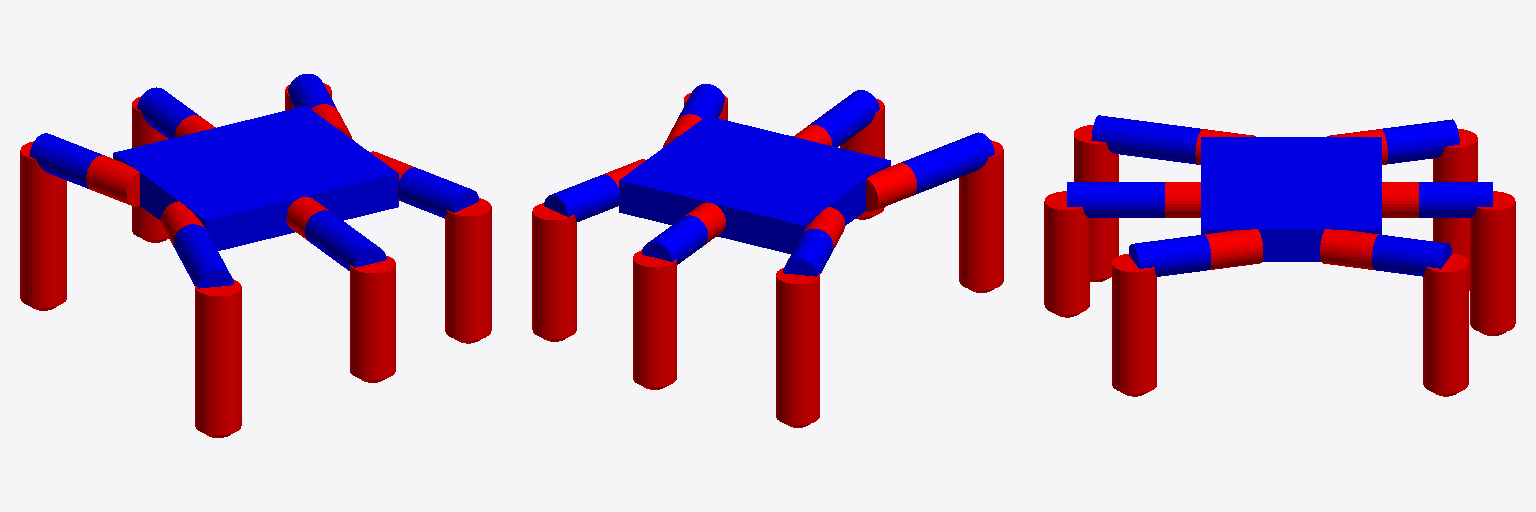
--- Render facts (derived) ---
3 views of the same robot in one strip: view 1: azimuth 30°, elevation 25°; view 2: azimuth 150°, elevation 25°; view 3: azimuth 270°, elevation 25° (orthographic).
Robot: pexod — 19 links, 18 joints (18 revolute); root link base_link; default pose: every joint at zero.
Links seen in each view (by area): view 1: base_link, leg_5_3, leg_0_3, leg_3_3, leg_4_3, leg_4_2, leg_3_2, leg_5_2, leg_0_2, leg_0_1, leg_1_3, leg_1_2 (+3 smaller); view 2: base_link, leg_0_3, leg_2_3, leg_5_3, leg_1_3, leg_5_2, leg_2_2, leg_4_2, leg_1_2, leg_5_1, leg_0_2, leg_4_3 (+3 smaller); view 3: base_link, leg_1_3, leg_2_3, leg_3_3, leg_4_3, leg_5_3, leg_5_2, leg_4_2, leg_0_3, leg_3_2, leg_2_2, leg_1_2 (+5 smaller).
Link boxes in pixels (x1,y1,x2,y2): base_link: [113, 106, 398, 250]; leg_5_3: [195, 279, 241, 437]; leg_0_3: [20, 141, 66, 310]; leg_3_3: [445, 198, 491, 343]; leg_4_3: [350, 256, 395, 382]; leg_4_2: [305, 210, 386, 270]; leg_3_2: [397, 167, 478, 218]; leg_5_2: [174, 224, 233, 288]; leg_0_2: [29, 133, 104, 188]; leg_0_1: [86, 155, 139, 206]; leg_1_3: [132, 97, 168, 242]; leg_1_2: [137, 87, 200, 138]; base_link: [619, 116, 890, 253]; leg_0_3: [776, 268, 819, 427]; leg_2_3: [532, 203, 576, 341]; leg_5_3: [959, 140, 1003, 292]; leg_1_3: [633, 250, 676, 389]; leg_5_2: [901, 132, 994, 195]; leg_2_2: [544, 174, 619, 221]; leg_4_2: [808, 90, 879, 146]; leg_1_2: [642, 215, 707, 264]; leg_5_1: [866, 163, 916, 211]; leg_0_2: [783, 229, 833, 276]; leg_4_3: [840, 99, 884, 219]; base_link: [1201, 137, 1381, 261]; leg_1_3: [1470, 191, 1515, 335]; leg_2_3: [1423, 253, 1468, 396]; leg_3_3: [1112, 254, 1156, 396]; leg_4_3: [1044, 191, 1089, 317]; leg_5_3: [1074, 125, 1118, 281]; leg_5_2: [1091, 115, 1201, 164]; leg_4_2: [1067, 182, 1164, 217]; leg_0_3: [1433, 129, 1477, 290]; leg_3_2: [1129, 234, 1210, 276]; leg_2_2: [1372, 234, 1451, 276]; leg_1_2: [1419, 182, 1492, 217].
Bounding box of the posed robot: 0.3853 × 0.5195 × 0.2087 m (x, y, z).
Geometry: primitives only (box / cylinder / sphere), no mesh files.

robot.urdf — pexod:
<?xml version="1.0" ?>
<!-- =================================================================================== -->
<!-- |    This document was autogenerated by xacro from pexod.xacro                    | -->
<!-- |    EDITING THIS FILE BY HAND IS NOT RECOMMENDED                                 | -->
<!-- =================================================================================== -->
<robot name="pexod" xmlns:xacro="http://www.ros.org/wiki/xacro">
  <!-- <xacro:include filename="$(find pexod_description)/urdf/pexod_control.xacro" /> -->
  <!-- MATERIALS -->
  <material name="Blue">
    <color rgba="0 0 1 1"/>
  </material>
  <material name="Red">
    <color rgba="1 0 0 1"/>
  </material>
  <material name="Green">
    <color rgba="0 1 0 1"/>
  </material>
  <material name="Yellow">
    <color rgba="1 1 0 1"/>
  </material>
  <material name="LightGrey">
    <color rgba="0.6 0.6 0.6 1.0"/>
  </material>
  <!-- END OF MATERIALS -->
  <!-- XACRO MACROS FOR VISUALS AND COLLISIONS -->
  <!-- END OF XACRO MACROS -->
  <!-- TORSO -->
  <link name="base_link">
    <visual>
      <origin rpy="0 0 0" xyz="0 0 0"/>
      <geometry>
        <box size="0.24 0.2 0.04"/>
      </geometry>
      <material name="Blue"/>
    </visual>
    <collision>
      <origin rpy="0 0 0" xyz="0 0 0"/>
      <geometry>
        <box size="0.24 0.2 0.04"/>
      </geometry>
    </collision>
    <inertial>
      <!-- CENTER OF MASS -->
      <origin rpy="0 0 0" xyz="0 0 0"/>
      <mass value="1.031"/>
      <!-- box inertia: 1/12*m(y^2+z^2), ... -->
      <inertia ixx="0.00357413333333" ixy="0" ixz="0" iyy="0.00508626666667" iyz="0" izz="0.00838546666667"/>
    </inertial>
  </link>
  <!-- XACRO MACRO FOR LEGS LINKS/JOINTS -->
  <!-- END OF LEG LINKS/JOINTS -->
  <joint name="body_leg_2" type="revolute">
    <parent link="base_link"/>
    <child link="leg_2_1"/>
    <limit effort="30.0" lower="-1.57079632679" upper="1.57079632679" velocity="7.0"/>
    <origin rpy="0 0 -0.3" xyz="0.11 0.04 0"/>
    <!-- <xacro:if value="${index == 5 or index == 4 or index == 3}">
                <axis xyz="0 0 1"/>
            </xacro:if>
            <xacro:if value="${index == 2 or index == 1 or index == 0}"> -->
    <axis xyz="0 0 1"/>
    <!-- </xacro:if> -->
    <dynamics damping="0.0"/>
  </joint>
  <link name="leg_2_1">
    <visual>
      <origin rpy="1.57079632679 0 0" xyz="0.01 0.03 0"/>
      <geometry>
        <cylinder length="0.06" radius="0.02"/>
      </geometry>
      <material name="Red"/>
    </visual>
    <collision>
      <origin rpy="1.57079632679 0 0" xyz="0.01 0.03 0"/>
      <geometry>
        <box size="0.02 0.02 0.06"/>
      </geometry>
    </collision>
    <inertial>
      <!-- CENTER OF MASS -->
      <origin rpy="1.57079632679 0 0" xyz="0.01 0.03 0"/>
      <mass value="0.02"/>
      <!-- box inertia: 1/12*m(y^2+z^2), ... -->
      <inertia ixx="6.66666666667e-06" ixy="0" ixz="0" iyy="6.66666666667e-06" iyz="0" izz="1.33333333333e-06"/>
    </inertial>
  </link>
  <joint name="leg_2_1_2" type="revolute">
    <parent link="leg_2_1"/>
    <child link="leg_2_2"/>
    <limit effort="30.0" lower="-0.78539816339" upper="0.78539816339" velocity="7.0"/>
    <origin rpy="0 0 0" xyz="0 0.06 0"/>
    <axis xyz="1 0 0"/>
    <dynamics damping="0.0"/>
  </joint>
  <link name="leg_2_2">
    <visual>
      <origin rpy="1.57079632679 0 0" xyz="0.01 0.0400682531084 0"/>
      <geometry>
        <cylinder length="0.0801365062169" radius="0.02"/>
      </geometry>
      <material name="Blue"/>
    </visual>
    <collision>
      <origin rpy="1.57079632679 0 0" xyz="0.01 0.0400682531084 0"/>
      <geometry>
        <box size="0.02 0.02 0.0801365062169"/>
      </geometry>
    </collision>
    <inertial>
      <!-- CENTER OF MASS -->
      <origin rpy="1.57079632679 0 0" xyz="0.01 0.0400682531084 0"/>
      <mass value="0.184"/>
      <!-- box inertia: 1/12*m(y^2+z^2), ... -->
      <inertia ixx="0.000104601847639" ixy="0" ixz="0" iyy="0.000104601847639" iyz="0" izz="1.22666666667e-05"/>
    </inertial>
  </link>
  <joint name="leg_2_2_3" type="revolute">
    <parent link="leg_2_2"/>
    <child link="leg_2_3"/>
    <limit effort="30.0" lower="-0.78539816339" upper="0.78539816339" velocity="7.0"/>
    <origin rpy="-1.57079632679 0 0" xyz="0 0.0801365062169 0"/>
    <axis xyz="-1 0 0"/>
    <dynamics damping="0.0"/>
  </joint>
  <link name="leg_2_3">
    <visual>
      <origin rpy="1.57079632679 0 0" xyz="0.0125 0.074177664071 0"/>
      <geometry>
        <cylinder length="0.148355328142" radius="0.025"/>
      </geometry>
      <material name="Red"/>
    </visual>
    <visual>
      <origin rpy="1.57079632679 0 0" xyz="0.0125 0.135855328142 0"/>
      <geometry>
        <sphere radius="0.025"/>
      </geometry>
      <material name="Red"/>
    </visual>
    <collision>
      <origin rpy="1.57079632679 0 0" xyz="0.0125 0.074177664071 0"/>
      <geometry>
        <box size="0.025 0.025 0.148355328142"/>
      </geometry>
    </collision>
    <collision>
      <origin rpy="1.57079632679 0 0" xyz="0.0125 0.135855328142 0"/>
      <geometry>
        <sphere radius="0.025"/>
      </geometry>
      <material name="Red"/>
    </collision>
    <inertial>
      <!-- CENTER OF MASS -->
      <origin rpy="1.57079632679 0 0" xyz="0.0125 0.074177664071 0"/>
      <mass value="0.04"/>
      <!-- box inertia: 1/12*m(y^2+z^2), ... -->
      <inertia ixx="7.54476779604e-05" ixy="0" ixz="0" iyy="7.54476779604e-05" iyz="0" izz="4.16666666667e-06"/>
    </inertial>
  </link>
  <joint name="body_leg_3" type="revolute">
    <parent link="base_link"/>
    <child link="leg_3_1"/>
    <limit effort="30.0" lower="-1.57079632679" upper="1.57079632679" velocity="7.0"/>
    <origin rpy="0 0 0.3" xyz="0.11 -0.04 0"/>
    <!-- <xacro:if value="${index == 5 or index == 4 or index == 3}">
                <axis xyz="0 0 1"/>
            </xacro:if>
            <xacro:if value="${index == 2 or index == 1 or index == 0}"> -->
    <axis xyz="0 0 1"/>
    <!-- </xacro:if> -->
    <dynamics damping="0.0"/>
  </joint>
  <link name="leg_3_1">
    <visual>
      <origin rpy="1.57079632679 0 0" xyz="0.01 -0.03 0"/>
      <geometry>
        <cylinder length="0.06" radius="0.02"/>
      </geometry>
      <material name="Red"/>
    </visual>
    <collision>
      <origin rpy="1.57079632679 0 0" xyz="0.01 -0.03 0"/>
      <geometry>
        <box size="0.02 0.02 0.06"/>
      </geometry>
    </collision>
    <inertial>
      <!-- CENTER OF MASS -->
      <origin rpy="1.57079632679 0 0" xyz="0.01 -0.03 0"/>
      <mass value="0.02"/>
      <!-- box inertia: 1/12*m(y^2+z^2), ... -->
      <inertia ixx="6.66666666667e-06" ixy="0" ixz="0" iyy="6.66666666667e-06" iyz="0" izz="1.33333333333e-06"/>
    </inertial>
  </link>
  <joint name="leg_3_1_2" type="revolute">
    <parent link="leg_3_1"/>
    <child link="leg_3_2"/>
    <limit effort="30.0" lower="-0.78539816339" upper="0.78539816339" velocity="7.0"/>
    <origin rpy="0 0 0" xyz="0 -0.06 0"/>
    <axis xyz="-1 0 0"/>
    <dynamics damping="0.0"/>
  </joint>
  <link name="leg_3_2">
    <visual>
      <origin rpy="1.57079632679 0 0" xyz="0.01 -0.04168758227 0"/>
      <geometry>
        <cylinder length="0.0833751645399" radius="0.02"/>
      </geometry>
      <material name="Blue"/>
    </visual>
    <collision>
      <origin rpy="1.57079632679 0 0" xyz="0.01 -0.04168758227 0"/>
      <geometry>
        <box size="0.02 0.02 0.0833751645399"/>
      </geometry>
    </collision>
    <inertial>
      <!-- CENTER OF MASS -->
      <origin rpy="1.57079632679 0 0" xyz="0.01 -0.04168758227 0"/>
      <mass value="0.184"/>
      <!-- box inertia: 1/12*m(y^2+z^2), ... -->
      <inertia ixx="0.000112721743618" ixy="0" ixz="0" iyy="0.000112721743618" iyz="0" izz="1.22666666667e-05"/>
    </inertial>
  </link>
  <joint name="leg_3_2_3" type="revolute">
    <parent link="leg_3_2"/>
    <child link="leg_3_3"/>
    <limit effort="30.0" lower="-0.78539816339" upper="0.78539816339" velocity="7.0"/>
    <origin rpy="1.57079632679 0 0" xyz="0 -0.0833751645399 0"/>
    <axis xyz="1 0 0"/>
    <dynamics damping="0.0"/>
  </joint>
  <link name="leg_3_3">
    <visual>
      <origin rpy="1.57079632679 0 0" xyz="0.0125 -0.0739847750105 0"/>
      <geometry>
        <cylinder length="0.147969550021" radius="0.025"/>
      </geometry>
      <material name="Red"/>
    </visual>
    <visual>
      <origin rpy="1.57079632679 0 0" xyz="0.0125 -0.135469550021 0"/>
      <geometry>
        <sphere radius="0.025"/>
      </geometry>
      <material name="Red"/>
    </visual>
    <collision>
      <origin rpy="1.57079632679 0 0" xyz="0.0125 -0.0739847750105 0"/>
      <geometry>
        <box size="0.025 0.025 0.147969550021"/>
      </geometry>
    </collision>
    <collision>
      <origin rpy="1.57079632679 0 0" xyz="0.0125 -0.135469550021 0"/>
      <geometry>
        <sphere radius="0.025"/>
      </geometry>
      <material name="Red"/>
    </collision>
    <inertial>
      <!-- CENTER OF MASS -->
      <origin rpy="1.57079632679 0 0" xyz="0.0125 -0.0739847750105 0"/>
      <mass value="0.04"/>
      <!-- box inertia: 1/12*m(y^2+z^2), ... -->
      <inertia ixx="7.50666257781e-05" ixy="0" ixz="0" iyy="7.50666257781e-05" iyz="0" izz="4.16666666667e-06"/>
    </inertial>
  </link>
  <joint name="body_leg_0" type="revolute">
    <parent link="base_link"/>
    <child link="leg_0_1"/>
    <limit effort="30.0" lower="-1.57079632679" upper="1.57079632679" velocity="7.0"/>
    <origin rpy="0 0 0.3" xyz="-0.13 0.04 0"/>
    <!-- <xacro:if value="${index == 5 or index == 4 or index == 3}">
                <axis xyz="0 0 1"/>
            </xacro:if>
            <xacro:if value="${index == 2 or index == 1 or index == 0}"> -->
    <axis xyz="0 0 1"/>
    <!-- </xacro:if> -->
    <dynamics damping="0.0"/>
  </joint>
  <link name="leg_0_1">
    <visual>
      <origin rpy="1.57079632679 0 0" xyz="0.01 0.03 0"/>
      <geometry>
        <cylinder length="0.06" radius="0.02"/>
      </geometry>
      <material name="Red"/>
    </visual>
    <collision>
      <origin rpy="1.57079632679 0 0" xyz="0.01 0.03 0"/>
      <geometry>
        <box size="0.02 0.02 0.06"/>
      </geometry>
    </collision>
    <inertial>
      <!-- CENTER OF MASS -->
      <origin rpy="1.57079632679 0 0" xyz="0.01 0.03 0"/>
      <mass value="0.02"/>
      <!-- box inertia: 1/12*m(y^2+z^2), ... -->
      <inertia ixx="6.66666666667e-06" ixy="0" ixz="0" iyy="6.66666666667e-06" iyz="0" izz="1.33333333333e-06"/>
    </inertial>
  </link>
  <joint name="leg_0_1_2" type="revolute">
    <parent link="leg_0_1"/>
    <child link="leg_0_2"/>
    <limit effort="30.0" lower="-0.78539816339" upper="0.78539816339" velocity="7.0"/>
    <origin rpy="0 0 0" xyz="0 0.06 0"/>
    <axis xyz="1 0 0"/>
    <dynamics damping="0.0"/>
  </joint>
  <link name="leg_0_2">
    <visual>
      <origin rpy="1.57079632679 0 0" xyz="0.01 0.0415265780655 0"/>
      <geometry>
        <cylinder length="0.083053156131" radius="0.02"/>
      </geometry>
      <material name="Blue"/>
    </visual>
    <collision>
      <origin rpy="1.57079632679 0 0" xyz="0.01 0.0415265780655 0"/>
      <geometry>
        <box size="0.02 0.02 0.083053156131"/>
      </geometry>
    </collision>
    <inertial>
      <!-- CENTER OF MASS -->
      <origin rpy="1.57079632679 0 0" xyz="0.01 0.0415265780655 0"/>
      <mass value="0.184"/>
      <!-- box inertia: 1/12*m(y^2+z^2), ... -->
      <inertia ixx="0.000111900010064" ixy="0" ixz="0" iyy="0.000111900010064" iyz="0" izz="1.22666666667e-05"/>
    </inertial>
  </link>
  <joint name="leg_0_2_3" type="revolute">
    <parent link="leg_0_2"/>
    <child link="leg_0_3"/>
    <limit effort="30.0" lower="-0.78539816339" upper="0.78539816339" velocity="7.0"/>
    <origin rpy="-1.57079632679 0 0" xyz="0 0.083053156131 0"/>
    <axis xyz="-1 0 0"/>
    <dynamics damping="0.0"/>
  </joint>
  <link name="leg_0_3">
    <visual>
      <origin rpy="1.57079632679 0 0" xyz="0.0125 0.088110785659 0"/>
      <geometry>
        <cylinder length="0.176221571318" radius="0.025"/>
      </geometry>
      <material name="Red"/>
    </visual>
    <visual>
      <origin rpy="1.57079632679 0 0" xyz="0.0125 0.163721571318 0"/>
      <geometry>
        <sphere radius="0.025"/>
      </geometry>
      <material name="Red"/>
    </visual>
    <collision>
      <origin rpy="1.57079632679 0 0" xyz="0.0125 0.088110785659 0"/>
      <geometry>
        <box size="0.025 0.025 0.176221571318"/>
      </geometry>
    </collision>
    <collision>
      <origin rpy="1.57079632679 0 0" xyz="0.0125 0.163721571318 0"/>
      <geometry>
        <sphere radius="0.025"/>
      </geometry>
      <material name="Red"/>
    </collision>
    <inertial>
      <!-- CENTER OF MASS -->
      <origin rpy="1.57079632679 0 0" xyz="0.0125 0.088110785659 0"/>
      <mass value="0.04"/>
      <!-- box inertia: 1/12*m(y^2+z^2), ... -->
      <inertia ixx="0.000105596807326" ixy="0" ixz="0" iyy="0.000105596807326" iyz="0" izz="4.16666666667e-06"/>
    </inertial>
  </link>
  <joint name="body_leg_5" type="revolute">
    <parent link="base_link"/>
    <child link="leg_5_1"/>
    <limit effort="30.0" lower="-1.57079632679" upper="1.57079632679" velocity="7.0"/>
    <origin rpy="0 0 -0.3" xyz="-0.13 -0.04 0"/>
    <!-- <xacro:if value="${index == 5 or index == 4 or index == 3}">
                <axis xyz="0 0 1"/>
            </xacro:if>
            <xacro:if value="${index == 2 or index == 1 or index == 0}"> -->
    <axis xyz="0 0 1"/>
    <!-- </xacro:if> -->
    <dynamics damping="0.0"/>
  </joint>
  <link name="leg_5_1">
    <visual>
      <origin rpy="1.57079632679 0 0" xyz="0.01 -0.03 0"/>
      <geometry>
        <cylinder length="0.06" radius="0.02"/>
      </geometry>
      <material name="Red"/>
    </visual>
    <collision>
      <origin rpy="1.57079632679 0 0" xyz="0.01 -0.03 0"/>
      <geometry>
        <box size="0.02 0.02 0.06"/>
      </geometry>
    </collision>
    <inertial>
      <!-- CENTER OF MASS -->
      <origin rpy="1.57079632679 0 0" xyz="0.01 -0.03 0"/>
      <mass value="0.02"/>
      <!-- box inertia: 1/12*m(y^2+z^2), ... -->
      <inertia ixx="6.66666666667e-06" ixy="0" ixz="0" iyy="6.66666666667e-06" iyz="0" izz="1.33333333333e-06"/>
    </inertial>
  </link>
  <joint name="leg_5_1_2" type="revolute">
    <parent link="leg_5_1"/>
    <child link="leg_5_2"/>
    <limit effort="30.0" lower="-0.78539816339" upper="0.78539816339" velocity="7.0"/>
    <origin rpy="0 0 0" xyz="0 -0.06 0"/>
    <axis xyz="-1 0 0"/>
    <dynamics damping="0.0"/>
  </joint>
  <link name="leg_5_2">
    <visual>
      <origin rpy="1.57079632679 0 0" xyz="0.01 -0.059969804861 0"/>
      <geometry>
        <cylinder length="0.119939609722" radius="0.02"/>
      </geometry>
      <material name="Blue"/>
    </visual>
    <collision>
      <origin rpy="1.57079632679 0 0" xyz="0.01 -0.059969804861 0"/>
      <geometry>
        <box size="0.02 0.02 0.119939609722"/>
      </geometry>
    </collision>
    <inertial>
      <!-- CENTER OF MASS -->
      <origin rpy="1.57079632679 0 0" xyz="0.01 -0.059969804861 0"/>
      <mass value="0.184"/>
      <!-- box inertia: 1/12*m(y^2+z^2), ... -->
      <inertia ixx="0.000226711153031" ixy="0" ixz="0" iyy="0.000226711153031" iyz="0" izz="1.22666666667e-05"/>
    </inertial>
  </link>
  <joint name="leg_5_2_3" type="revolute">
    <parent link="leg_5_2"/>
    <child link="leg_5_3"/>
    <limit effort="30.0" lower="-0.78539816339" upper="0.78539816339" velocity="7.0"/>
    <origin rpy="1.57079632679 0 0" xyz="0 -0.119939609722 0"/>
    <axis xyz="1 0 0"/>
    <dynamics damping="0.0"/>
  </joint>
  <link name="leg_5_3">
    <visual>
      <origin rpy="1.57079632679 0 0" xyz="0.0125 -0.082708574601 0"/>
      <geometry>
        <cylinder length="0.165417149202" radius="0.025"/>
      </geometry>
      <material name="Red"/>
    </visual>
    <visual>
      <origin rpy="1.57079632679 0 0" xyz="0.0125 -0.152917149202 0"/>
      <geometry>
        <sphere radius="0.025"/>
      </geometry>
      <material name="Red"/>
    </visual>
    <collision>
      <origin rpy="1.57079632679 0 0" xyz="0.0125 -0.082708574601 0"/>
      <geometry>
        <box size="0.025 0.025 0.165417149202"/>
      </geometry>
    </collision>
    <collision>
      <origin rpy="1.57079632679 0 0" xyz="0.0125 -0.152917149202 0"/>
      <geometry>
        <sphere radius="0.025"/>
      </geometry>
      <material name="Red"/>
    </collision>
    <inertial>
      <!-- CENTER OF MASS -->
      <origin rpy="1.57079632679 0 0" xyz="0.0125 -0.082708574601 0"/>
      <mass value="0.04"/>
      <!-- box inertia: 1/12*m(y^2+z^2), ... -->
      <inertia ixx="9.32927775004e-05" ixy="0" ixz="0" iyy="9.32927775004e-05" iyz="0" izz="4.16666666667e-06"/>
    </inertial>
  </link>
  <joint name="body_leg_1" type="revolute">
    <parent link="base_link"/>
    <child link="leg_1_1"/>
    <limit effort="30.0" lower="-1.57079632679" upper="1.57079632679" velocity="7.0"/>
    <origin rpy="0 0 0" xyz="-0.01 0.08 0"/>
    <!-- <xacro:if value="${index == 5 or index == 4 or index == 3}">
                <axis xyz="0 0 1"/>
            </xacro:if>
            <xacro:if value="${index == 2 or index == 1 or index == 0}"> -->
    <axis xyz="0 0 1"/>
    <!-- </xacro:if> -->
    <dynamics damping="0.0"/>
  </joint>
  <link name="leg_1_1">
    <visual>
      <origin rpy="1.57079632679 0 0" xyz="0.01 0.03 0"/>
      <geometry>
        <cylinder length="0.06" radius="0.02"/>
      </geometry>
      <material name="Red"/>
    </visual>
    <collision>
      <origin rpy="1.57079632679 0 0" xyz="0.01 0.03 0"/>
      <geometry>
        <box size="0.02 0.02 0.06"/>
      </geometry>
    </collision>
    <inertial>
      <!-- CENTER OF MASS -->
      <origin rpy="1.57079632679 0 0" xyz="0.01 0.03 0"/>
      <mass value="0.02"/>
      <!-- box inertia: 1/12*m(y^2+z^2), ... -->
      <inertia ixx="6.66666666667e-06" ixy="0" ixz="0" iyy="6.66666666667e-06" iyz="0" izz="1.33333333333e-06"/>
    </inertial>
  </link>
  <joint name="leg_1_1_2" type="revolute">
    <parent link="leg_1_1"/>
    <child link="leg_1_2"/>
    <limit effort="30.0" lower="-0.78539816339" upper="0.78539816339" velocity="7.0"/>
    <origin rpy="0 0 0" xyz="0 0.06 0"/>
    <axis xyz="1 0 0"/>
    <dynamics damping="0.0"/>
  </joint>
  <link name="leg_1_2">
    <visual>
      <origin rpy="1.57079632679 0 0" xyz="0.01 0.0409287679258 0"/>
      <geometry>
        <cylinder length="0.0818575358515" radius="0.02"/>
      </geometry>
      <material name="Blue"/>
    </visual>
    <collision>
      <origin rpy="1.57079632679 0 0" xyz="0.01 0.0409287679258 0"/>
      <geometry>
        <box size="0.02 0.02 0.0818575358515"/>
      </geometry>
    </collision>
    <inertial>
      <!-- CENTER OF MASS -->
      <origin rpy="1.57079632679 0 0" xyz="0.01 0.0409287679258 0"/>
      <mass value="0.184"/>
      <!-- box inertia: 1/12*m(y^2+z^2), ... -->
      <inertia ixx="0.000108876728027" ixy="0" ixz="0" iyy="0.000108876728027" iyz="0" izz="1.22666666667e-05"/>
    </inertial>
  </link>
  <joint name="leg_1_2_3" type="revolute">
    <parent link="leg_1_2"/>
    <child link="leg_1_3"/>
    <limit effort="30.0" lower="-0.78539816339" upper="0.78539816339" velocity="7.0"/>
    <origin rpy="-1.57079632679 0 0" xyz="0 0.0818575358515 0"/>
    <axis xyz="-1 0 0"/>
    <dynamics damping="0.0"/>
  </joint>
  <link name="leg_1_3">
    <visual>
      <origin rpy="1.57079632679 0 0" xyz="0.0125 0.0750409293885 0"/>
      <geometry>
        <cylinder length="0.150081858777" radius="0.025"/>
      </geometry>
      <material name="Red"/>
    </visual>
    <visual>
      <origin rpy="1.57079632679 0 0" xyz="0.0125 0.137581858777 0"/>
      <geometry>
        <sphere radius="0.025"/>
      </geometry>
      <material name="Red"/>
    </visual>
    <collision>
      <origin rpy="1.57079632679 0 0" xyz="0.0125 0.0750409293885 0"/>
      <geometry>
        <box size="0.025 0.025 0.150081858777"/>
      </geometry>
    </collision>
    <collision>
      <origin rpy="1.57079632679 0 0" xyz="0.0125 0.137581858777 0"/>
      <geometry>
        <sphere radius="0.025"/>
      </geometry>
      <material name="Red"/>
    </collision>
    <inertial>
      <!-- CENTER OF MASS -->
      <origin rpy="1.57079632679 0 0" xyz="0.0125 0.0750409293885 0"/>
      <mass value="0.04"/>
      <!-- box inertia: 1/12*m(y^2+z^2), ... -->
      <inertia ixx="7.71652144465e-05" ixy="0" ixz="0" iyy="7.71652144465e-05" iyz="0" izz="4.16666666667e-06"/>
    </inertial>
  </link>
  <joint name="body_leg_4" type="revolute">
    <parent link="base_link"/>
    <child link="leg_4_1"/>
    <limit effort="30.0" lower="-1.57079632679" upper="1.57079632679" velocity="7.0"/>
    <origin rpy="0 0 0" xyz="-0.01 -0.08 0"/>
    <!-- <xacro:if value="${index == 5 or index == 4 or index == 3}">
                <axis xyz="0 0 1"/>
            </xacro:if>
            <xacro:if value="${index == 2 or index == 1 or index == 0}"> -->
    <axis xyz="0 0 1"/>
    <!-- </xacro:if> -->
    <dynamics damping="0.0"/>
  </joint>
  <link name="leg_4_1">
    <visual>
      <origin rpy="1.57079632679 0 0" xyz="0.01 -0.03 0"/>
      <geometry>
        <cylinder length="0.06" radius="0.02"/>
      </geometry>
      <material name="Red"/>
    </visual>
    <collision>
      <origin rpy="1.57079632679 0 0" xyz="0.01 -0.03 0"/>
      <geometry>
        <box size="0.02 0.02 0.06"/>
      </geometry>
    </collision>
    <inertial>
      <!-- CENTER OF MASS -->
      <origin rpy="1.57079632679 0 0" xyz="0.01 -0.03 0"/>
      <mass value="0.02"/>
      <!-- box inertia: 1/12*m(y^2+z^2), ... -->
      <inertia ixx="6.66666666667e-06" ixy="0" ixz="0" iyy="6.66666666667e-06" iyz="0" izz="1.33333333333e-06"/>
    </inertial>
  </link>
  <joint name="leg_4_1_2" type="revolute">
    <parent link="leg_4_1"/>
    <child link="leg_4_2"/>
    <limit effort="30.0" lower="-0.78539816339" upper="0.78539816339" velocity="7.0"/>
    <origin rpy="0 0 0" xyz="0 -0.06 0"/>
    <axis xyz="-1 0 0"/>
    <dynamics damping="0.0"/>
  </joint>
  <link name="leg_4_2">
    <visual>
      <origin rpy="1.57079632679 0 0" xyz="0.01 -0.053802856929 0"/>
      <geometry>
        <cylinder length="0.107605713858" radius="0.02"/>
      </geometry>
      <material name="Blue"/>
    </visual>
    <collision>
      <origin rpy="1.57079632679 0 0" xyz="0.01 -0.053802856929 0"/>
      <geometry>
        <box size="0.02 0.02 0.107605713858"/>
      </geometry>
    </collision>
    <inertial>
      <!-- CENTER OF MASS -->
      <origin rpy="1.57079632679 0 0" xyz="0.01 -0.053802856929 0"/>
      <mass value="0.184"/>
      <!-- box inertia: 1/12*m(y^2+z^2), ... -->
      <inertia ixx="0.000183677841375" ixy="0" ixz="0" iyy="0.000183677841375" iyz="0" izz="1.22666666667e-05"/>
    </inertial>
  </link>
  <joint name="leg_4_2_3" type="revolute">
    <parent link="leg_4_2"/>
    <child link="leg_4_3"/>
    <limit effort="30.0" lower="-0.78539816339" upper="0.78539816339" velocity="7.0"/>
    <origin rpy="1.57079632679 0 0" xyz="0 -0.107605713858 0"/>
    <axis xyz="1 0 0"/>
    <dynamics damping="0.0"/>
  </joint>
  <link name="leg_4_3">
    <visual>
      <origin rpy="1.57079632679 0 0" xyz="0.0125 -0.0636044707475 0"/>
      <geometry>
        <cylinder length="0.127208941495" radius="0.025"/>
      </geometry>
      <material name="Red"/>
    </visual>
    <visual>
      <origin rpy="1.57079632679 0 0" xyz="0.0125 -0.114708941495 0"/>
      <geometry>
        <sphere radius="0.025"/>
      </geometry>
      <material name="Red"/>
    </visual>
    <collision>
      <origin rpy="1.57079632679 0 0" xyz="0.0125 -0.0636044707475 0"/>
      <geometry>
        <box size="0.025 0.025 0.127208941495"/>
      </geometry>
    </collision>
    <collision>
      <origin rpy="1.57079632679 0 0" xyz="0.0125 -0.114708941495 0"/>
      <geometry>
        <sphere radius="0.025"/>
      </geometry>
      <material name="Red"/>
    </collision>
    <inertial>
      <!-- CENTER OF MASS -->
      <origin rpy="1.57079632679 0 0" xyz="0.0125 -0.0636044707475 0"/>
      <mass value="0.04"/>
      <!-- box inertia: 1/12*m(y^2+z^2), ... -->
      <inertia ixx="5.60237159876e-05" ixy="0" ixz="0" iyy="5.60237159876e-05" iyz="0" izz="4.16666666667e-06"/>
    </inertial>
  </link>
  <!-- END OF LEG LINKS/JOINTS -->
</robot>
